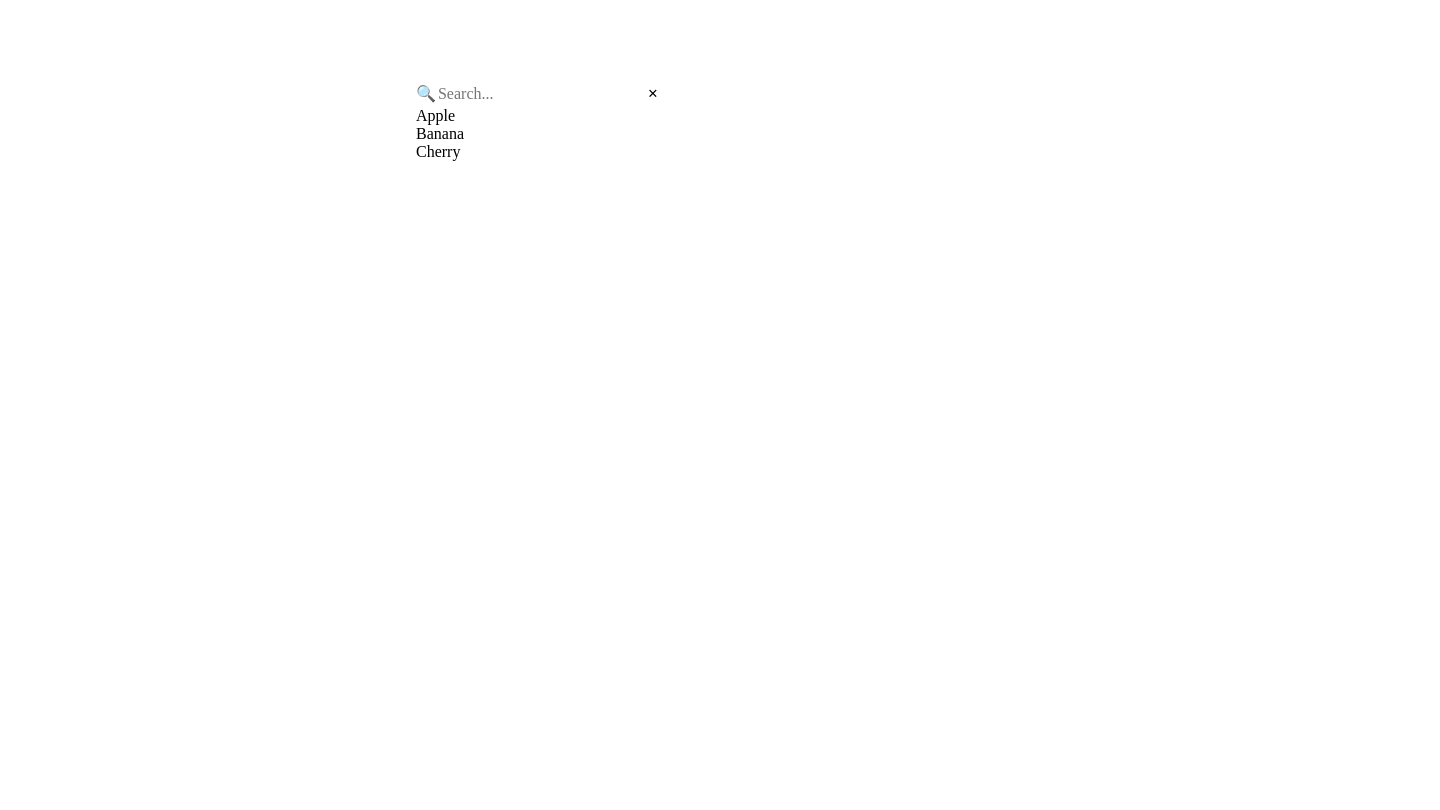
SicSearchComponent › filters items by the typed query (case-insensitive substring)
Type "an" into the field with class "sic-search__input" at x=538, y=94, box [436,84,640,104]
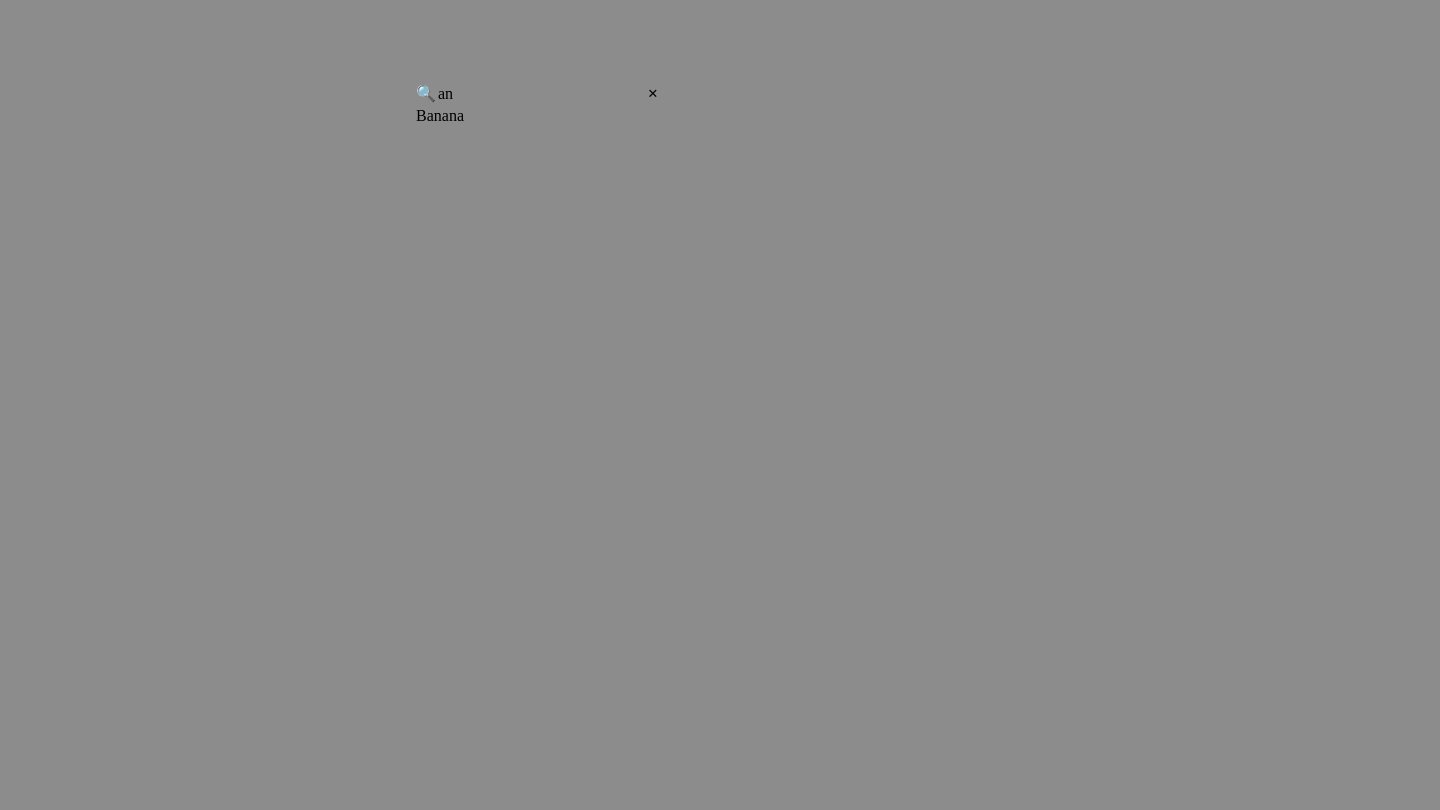
Expected: the number of options with class "sic-search__item" is 1, [416,107,464,124]
Expected: the option with class "sic-search__item" reads "Banana", [416,107,464,124]
